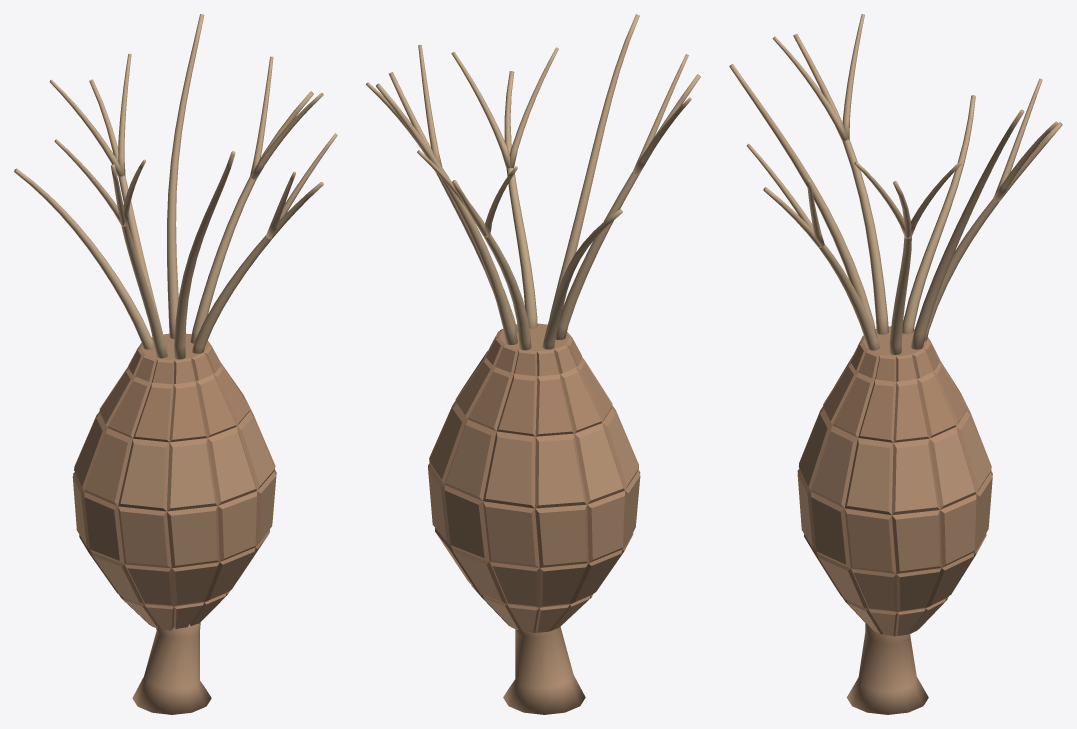
The model's file is gogia.glb.
3 views of the same model, side by side, from view 1: azimuth 30°, elevation 25°; view 2: azimuth 150°, elevation 25°; view 3: azimuth 270°, elevation 25° (orthographic). The views are drawn at different scales.
Visible parts, largest first — view 1: pear-shaped-continuous-plated-theca, thin-branching-feeding-brachioles, short-attachment-base-and-stalk; view 2: pear-shaped-continuous-plated-theca, thin-branching-feeding-brachioles, short-attachment-base-and-stalk; view 3: pear-shaped-continuous-plated-theca, thin-branching-feeding-brachioles, short-attachment-base-and-stalk.
Part boxes in pixels (bbox=[...]): pear-shaped-continuous-plated-theca: bbox=[72, 333, 276, 630]; thin-branching-feeding-brachioles: bbox=[14, 14, 337, 359]; short-attachment-base-and-stalk: bbox=[132, 622, 211, 714]; pear-shaped-continuous-plated-theca: bbox=[428, 323, 640, 632]; thin-branching-feeding-brachioles: bbox=[366, 14, 700, 350]; short-attachment-base-and-stalk: bbox=[503, 626, 585, 714]; pear-shaped-continuous-plated-theca: bbox=[797, 326, 992, 636]; thin-branching-feeding-brachioles: bbox=[729, 14, 1062, 354]; short-attachment-base-and-stalk: bbox=[846, 623, 928, 714].
Bounding box in the file's own units: 0.0468 × 0.1 × 0.0476.
